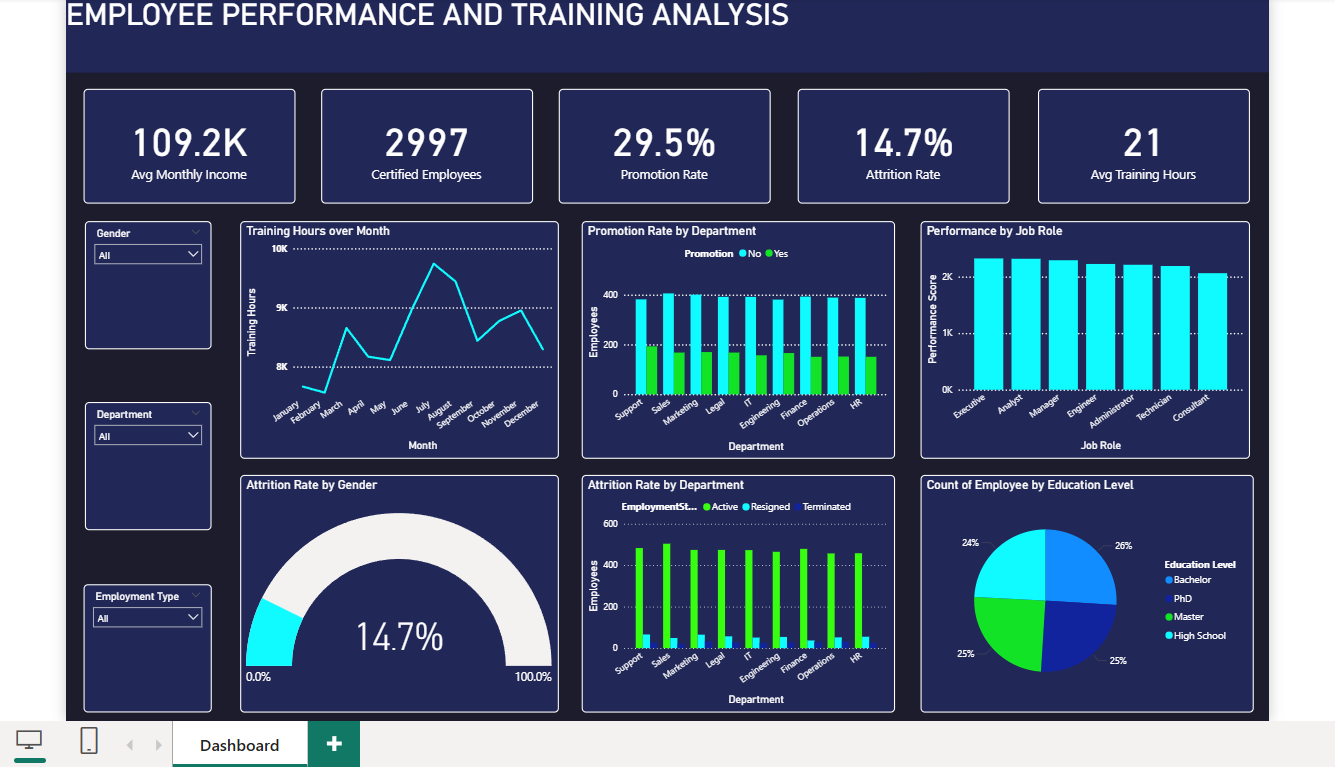

The page's visual inventory and layout, read from the dashboard file:
{"tool":"powerbi","page":{"name":"Dashboard","canvas":[1660,1000],"ordinal":0},"visuals":[{"type":"shape","box":[0,0,1660.5,104.4],"z":0},{"type":"card","fields":{"Values":["hr_dataset.Avg Monthly Income"]},"box":[24.2,126.7,292.6,158.4],"z":1000},{"type":"card","fields":{"Values":["hr_dataset.Certified Employees"]},"box":[352.2,126.7,292.6,158.4],"z":2000},{"type":"card","fields":{"Values":["hr_dataset.Promotion Rate %"]},"box":[680.2,126.7,292.6,158.4],"z":3000},{"type":"card","fields":{"Values":["hr_dataset.Attrition Rate"]},"box":[1010.1,126.7,292.6,158.4],"z":4000},{"type":"card","fields":{"Values":["hr_dataset.Training Hours Per Employee"]},"box":[1341.8,126.7,292.6,158.4],"z":5000},{"type":"gauge","title":"Attrition Rate by Gender","fields":{"Y":["hr_dataset.Attrition Rate"]},"box":[240.4,659.7,439.8,328],"z":6000},{"type":"lineChart","title":"Training Hours over Month","fields":{"Category":["training_data.TrainingDate.Variation.Date Hierarchy.Month"],"Y":["Sum(training_data.TrainingHours)"]},"box":[240.4,309.4,439.8,328],"z":7000},{"type":"clusteredColumnChart","title":"Promotion Rate by Department","fields":{"Category":["hr_dataset.Department"],"Y":["hr_dataset.Count of Employee ID"],"Series":["hr_dataset.HasPromotion"]},"box":[711.9,309.4,432.4,328],"z":8000},{"type":"clusteredColumnChart","title":"Performance by Job Role","fields":{"Category":["hr_dataset.JobRole"],"Y":["Sum(hr_dataset.PerformanceRating)"]},"box":[1179.7,309.4,454.7,328],"z":9000},{"type":"clusteredColumnChart","title":"Attrition Rate by Department","fields":{"Category":["hr_dataset.Department"],"Y":["CountNonNull(hr_dataset.EmployeeID)"],"Series":["hr_dataset.EmploymentStatus"]},"box":[711.9,659.7,432.4,328],"z":10000},{"type":"pieChart","title":"Count of Employee by Education Level","fields":{"Category":["hr_dataset.EducationLevel"],"Y":["CountNonNull(hr_dataset.EmployeeID)"]},"box":[1179.7,659.7,460.3,328],"z":11000},{"type":"slicer","fields":{"Values":["hr_dataset.Gender"]},"box":[26.1,309.4,175.2,177],"z":12000},{"type":"slicer","fields":{"Values":["hr_dataset.Department"]},"box":[26.1,559.1,175.2,177],"z":13000},{"type":"slicer","fields":{"Values":["hr_dataset.EmploymentType"]},"box":[24.2,810.7,177,177],"z":14000}]}

Visuals, with their boxes in screenshot pixels (x1, y1, x2, y2):
shape: pyautogui.locateOnScreen(59, 0, 1273, 69)
card - hr_dataset.Avg Monthly Income: pyautogui.locateOnScreen(77, 86, 291, 201)
card - hr_dataset.Certified Employees: pyautogui.locateOnScreen(317, 86, 530, 201)
card - hr_dataset.Promotion Rate %: pyautogui.locateOnScreen(556, 86, 770, 201)
card - hr_dataset.Attrition Rate: pyautogui.locateOnScreen(797, 86, 1011, 201)
card - hr_dataset.Training Hours Per Employee: pyautogui.locateOnScreen(1040, 86, 1254, 201)
"Attrition Rate by Gender" gauge: pyautogui.locateOnScreen(235, 475, 556, 715)
"Training Hours over Month" lineChart: pyautogui.locateOnScreen(235, 219, 556, 459)
"Promotion Rate by Department" clusteredColumnChart: pyautogui.locateOnScreen(579, 219, 895, 459)
"Performance by Job Role" clusteredColumnChart: pyautogui.locateOnScreen(921, 219, 1254, 459)
"Attrition Rate by Department" clusteredColumnChart: pyautogui.locateOnScreen(579, 475, 895, 715)
"Count of Employee by Education Level" pieChart: pyautogui.locateOnScreen(921, 475, 1258, 715)
slicer - hr_dataset.Gender: pyautogui.locateOnScreen(78, 219, 206, 349)
slicer - hr_dataset.Department: pyautogui.locateOnScreen(78, 402, 206, 531)
slicer - hr_dataset.EmploymentType: pyautogui.locateOnScreen(77, 586, 206, 715)
